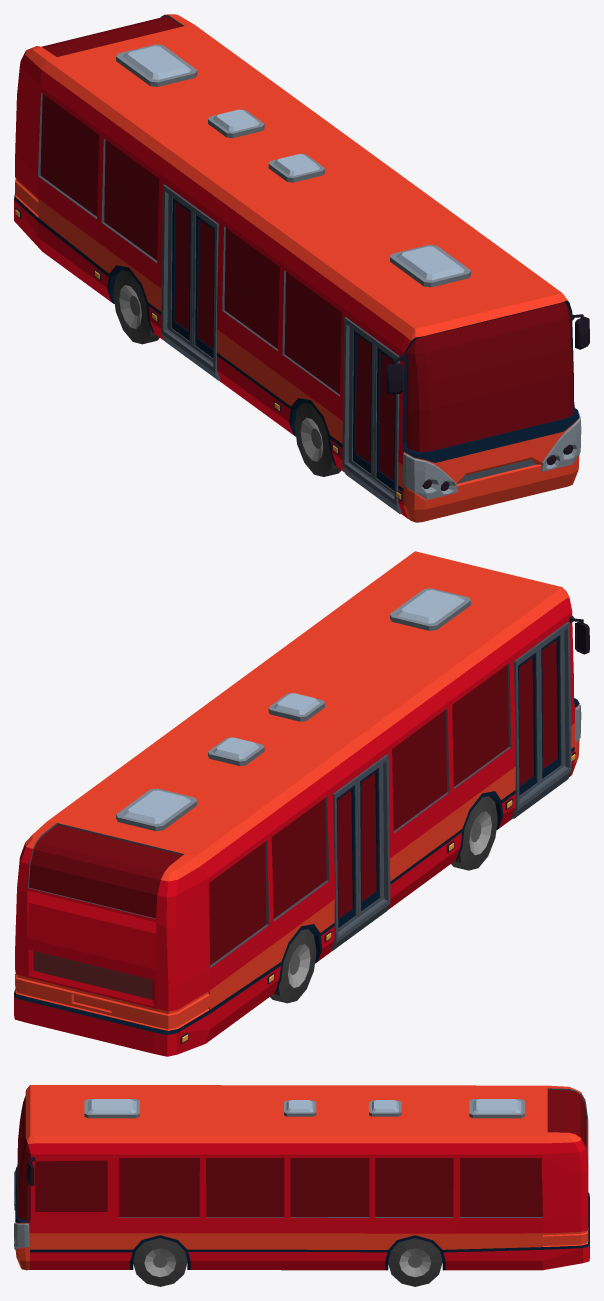
Rendered from Bus_Winter.fbx.
3 renders of one model, top to bottom at view 1: azimuth 30°, elevation 25°; view 2: azimuth 150°, elevation 25°; view 3: azimuth 270°, elevation 25°, orthographic. The views are drawn at different scales.
Visible parts, largest first — view 1: Bus_Winter, SM_Veh_Bus_Glass, SM_Veh_Bus_Wheel_rl1, SM_Veh_Bus_Wheel_rl, SM_Veh_Bus_Door_02, SM_Veh_Bus_Door_04, SM_Veh_Bus_Door_03_Glass, SM_Veh_Bus_Door_04_Glass, SM_Veh_Bus_Door_02_Glass, SM_Veh_Bus_Door_01_Glass, SM_Veh_Bus_Door_03, SM_Veh_Bus_Door_01; view 2: Bus_Winter, SM_Veh_Bus_Glass, SM_Veh_Bus_Wheel_rl1, SM_Veh_Bus_Wheel_rl, SM_Veh_Bus_Door_03, SM_Veh_Bus_Door_01, SM_Veh_Bus_Door_03_Glass, SM_Veh_Bus_Door_01_Glass, SM_Veh_Bus_Door_04_Glass, SM_Veh_Bus_Door_02_Glass, SM_Veh_Bus_Door_02, SM_Veh_Bus_Door_04; view 3: Bus_Winter, SM_Veh_Bus_Glass, SM_Veh_Bus_Wheel_rl1, SM_Veh_Bus_Wheel_rl.
Boxes of the visible parts, bbox=[...] form: Bus_Winter: bbox=[14, 14, 589, 522]; SM_Veh_Bus_Glass: bbox=[40, 16, 573, 452]; SM_Veh_Bus_Wheel_rl1: bbox=[294, 403, 341, 476]; SM_Veh_Bus_Wheel_rl: bbox=[113, 270, 159, 344]; SM_Veh_Bus_Door_02: bbox=[348, 327, 374, 478]; SM_Veh_Bus_Door_04: bbox=[167, 194, 193, 346]; SM_Veh_Bus_Door_03_Glass: bbox=[198, 220, 213, 348]; SM_Veh_Bus_Door_04_Glass: bbox=[174, 203, 189, 330]; SM_Veh_Bus_Door_02_Glass: bbox=[355, 335, 370, 463]; SM_Veh_Bus_Door_01_Glass: bbox=[379, 352, 394, 480]; SM_Veh_Bus_Door_03: bbox=[192, 212, 214, 361]; SM_Veh_Bus_Door_01: bbox=[373, 345, 395, 493]; Bus_Winter: bbox=[14, 551, 589, 1056]; SM_Veh_Bus_Glass: bbox=[29, 664, 508, 965]; SM_Veh_Bus_Wheel_rl1: bbox=[451, 796, 497, 870]; SM_Veh_Bus_Wheel_rl: bbox=[270, 929, 316, 1003]; SM_Veh_Bus_Door_03: bbox=[357, 764, 384, 916]; SM_Veh_Bus_Door_01: bbox=[539, 631, 565, 783]; SM_Veh_Bus_Door_03_Glass: bbox=[361, 773, 376, 901]; SM_Veh_Bus_Door_01_Glass: bbox=[542, 640, 557, 768]; SM_Veh_Bus_Door_04_Glass: bbox=[337, 790, 352, 918]; SM_Veh_Bus_Door_02_Glass: bbox=[519, 657, 533, 785]; SM_Veh_Bus_Door_02: bbox=[518, 650, 539, 799]; SM_Veh_Bus_Door_04: bbox=[336, 782, 358, 931]; Bus_Winter: bbox=[14, 1085, 589, 1270]; SM_Veh_Bus_Glass: bbox=[17, 1089, 586, 1220]; SM_Veh_Bus_Wheel_rl1: bbox=[133, 1238, 187, 1286]; SM_Veh_Bus_Wheel_rl: bbox=[388, 1238, 442, 1286].
Bounding box in the file's own units: 324 × 335 × 1133.
